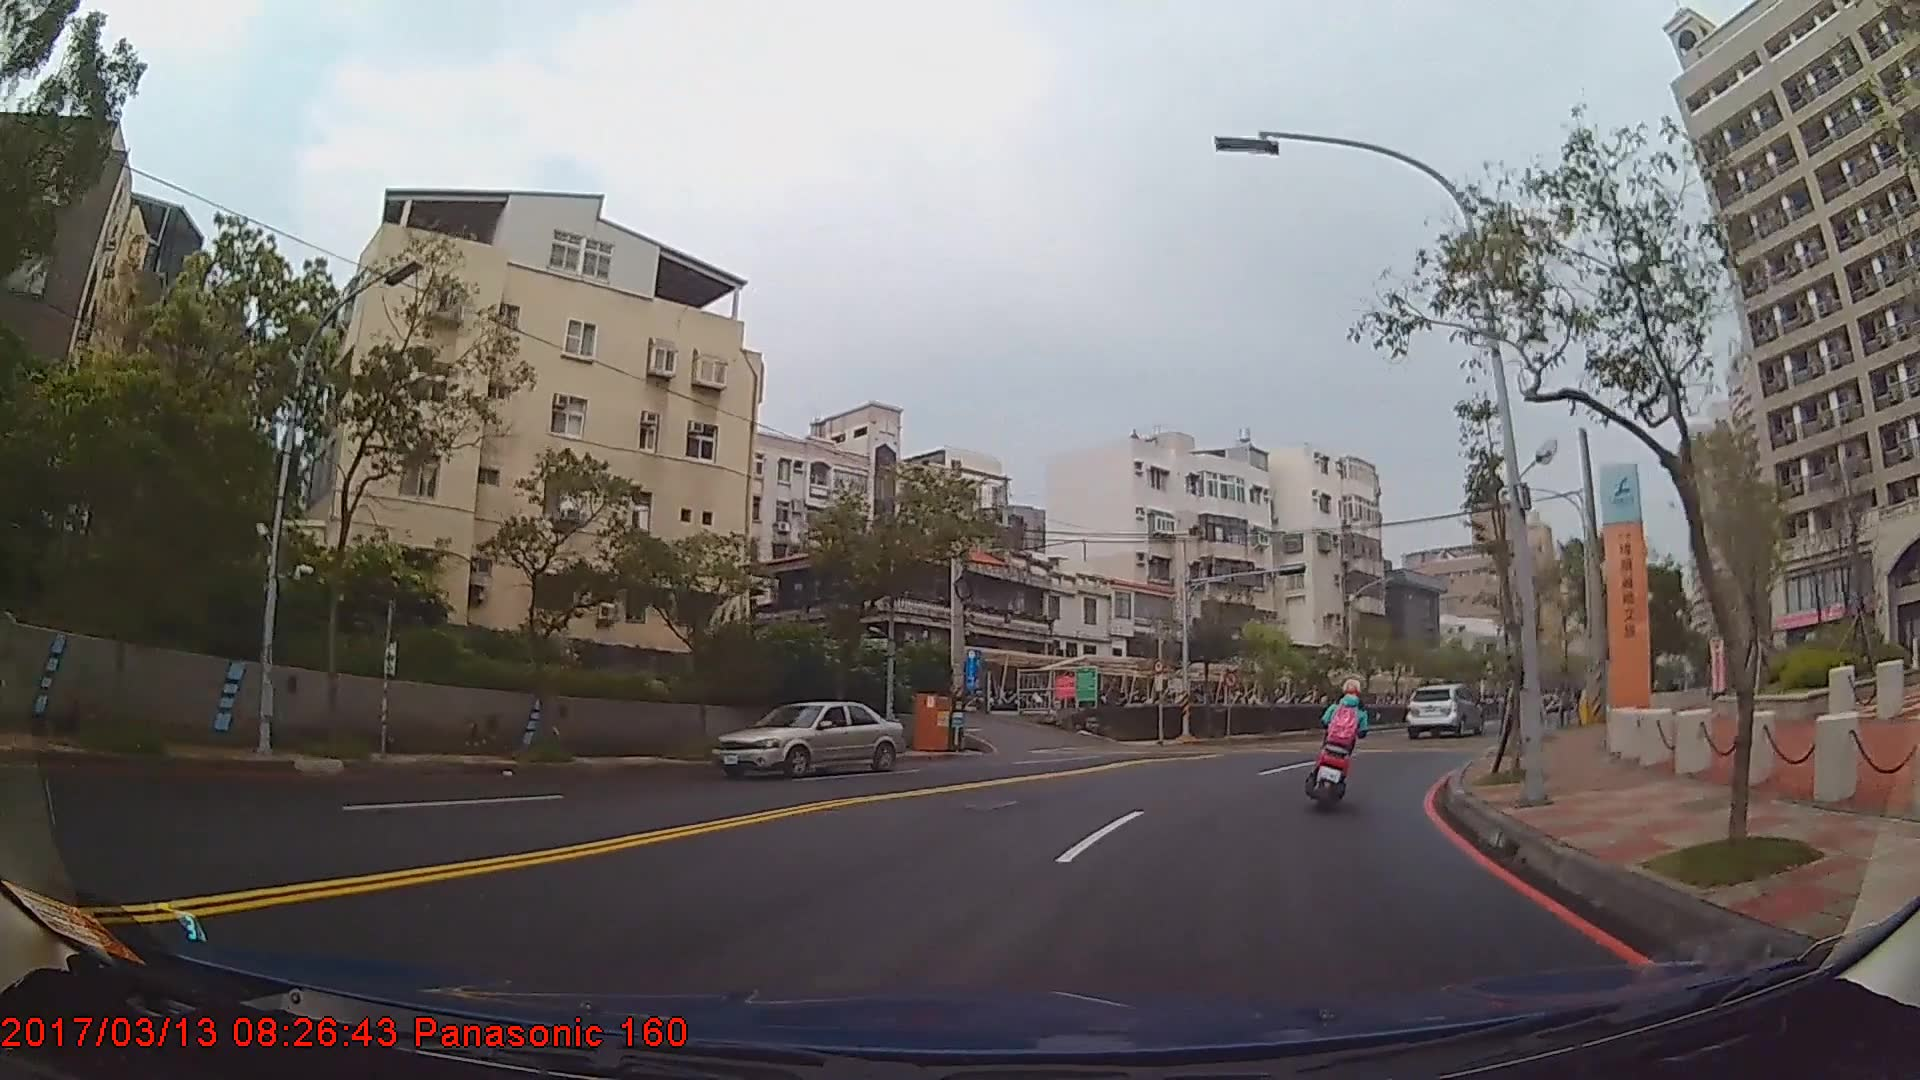rider: (1314, 677, 1373, 804)
vehicle: (707, 699, 903, 778), (1402, 682, 1481, 737)
